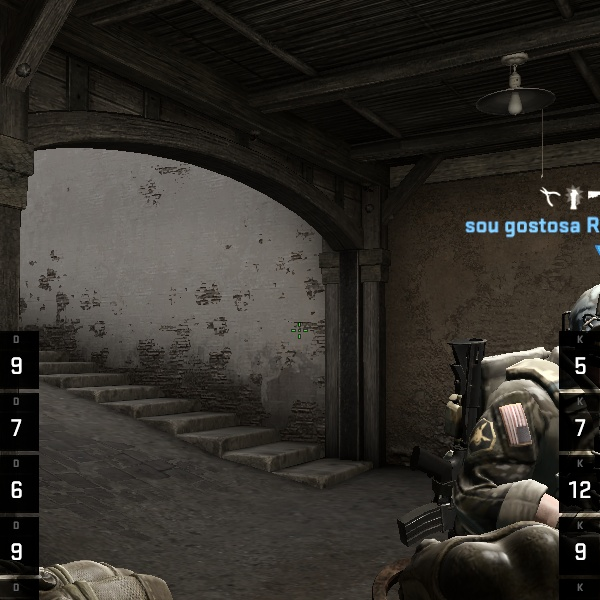ct_body: (382, 278, 600, 600)
ct_head: (541, 274, 598, 408)
